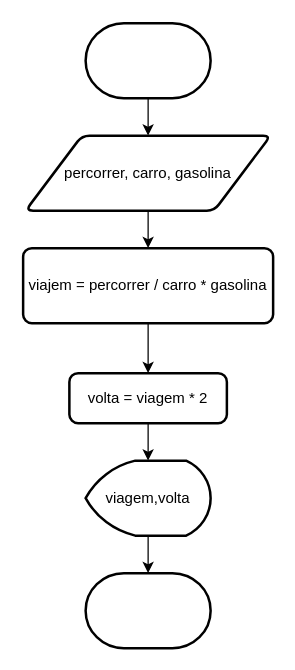
Image size: 295x670. Some labels were removed from this diagram. The shapes that lost their labels are listed below. From the top down, each one's centre as x and y in pixels, then its label:
At (x=147, y=60): "Inicio".
At (x=147, y=610): "fim".
